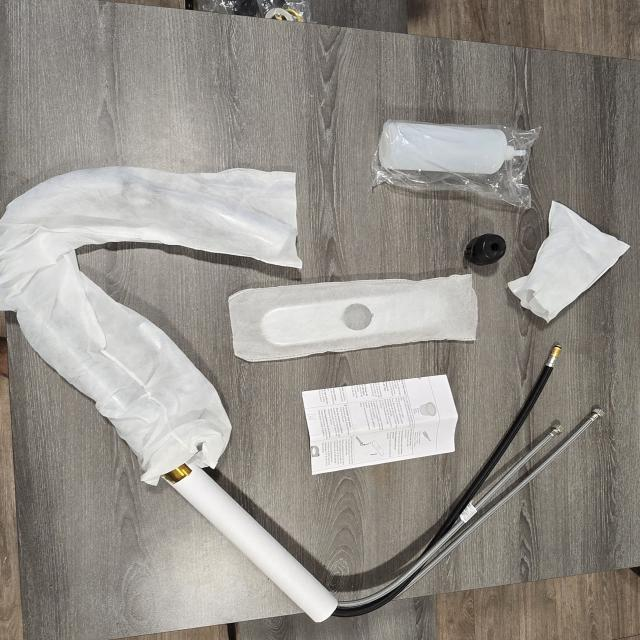1c: (0, 167, 603, 622)
2c: (508, 201, 629, 323)
3: (372, 120, 539, 209)
4c: (229, 275, 478, 362)
5: (464, 233, 506, 266)
8: (302, 375, 457, 474)
